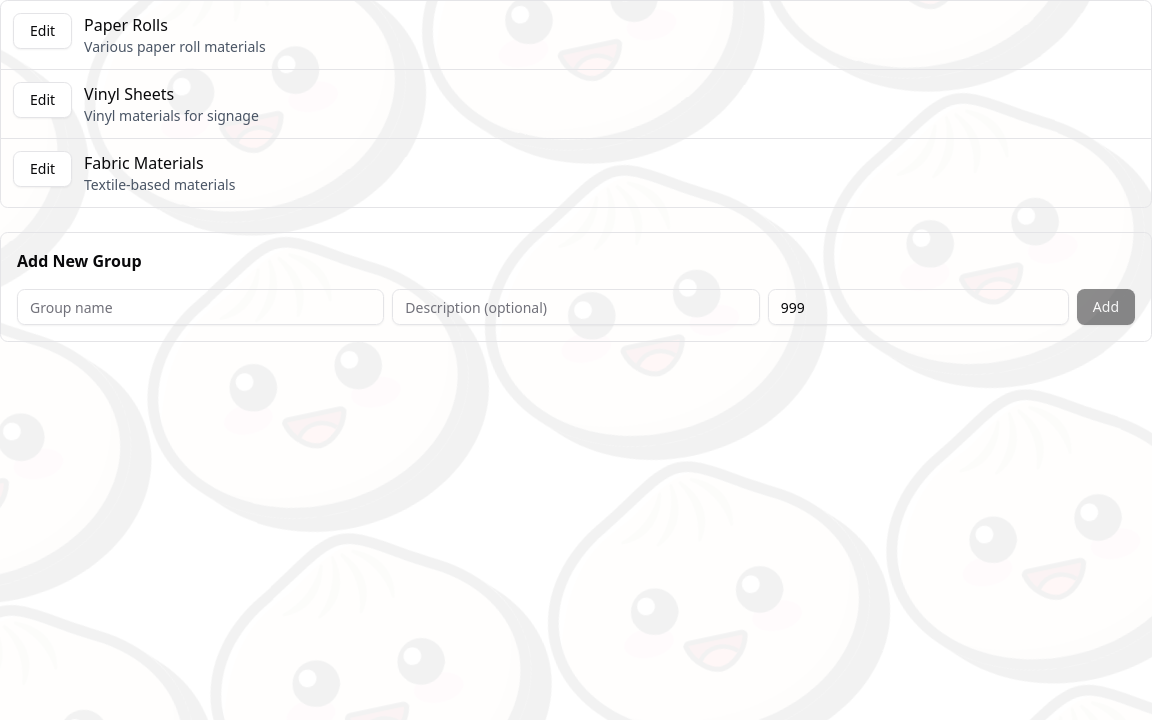
Test case: GroupManager › Edit Group › opens edit panel when edit button is clicked
Click the button "Edit" next to "Paper Rolls" at (43, 31), box [13, 13, 72, 49]
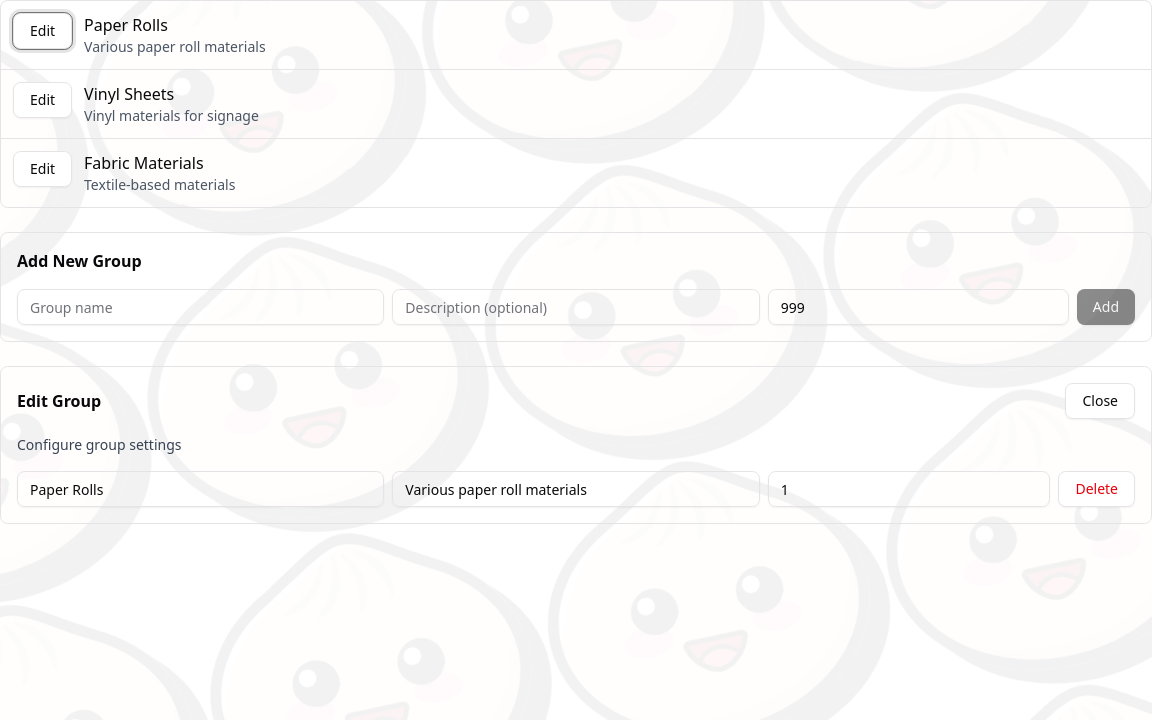
Result: the heading "Edit Group" is shown at [17, 389, 101, 413]
Result: the button "Close" is shown at [1066, 383, 1135, 419]
Result: the text "Configure group settings" is shown at [17, 435, 182, 454]
